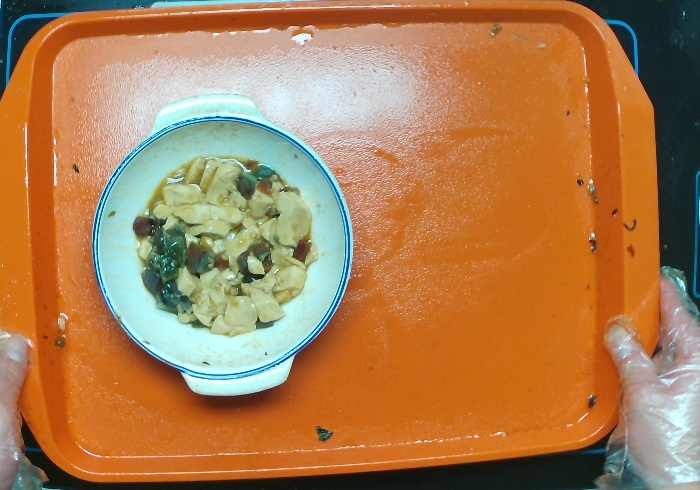HZYJPL-Lan_Bian_Dai_Er_Wan: (93, 92, 355, 400)
